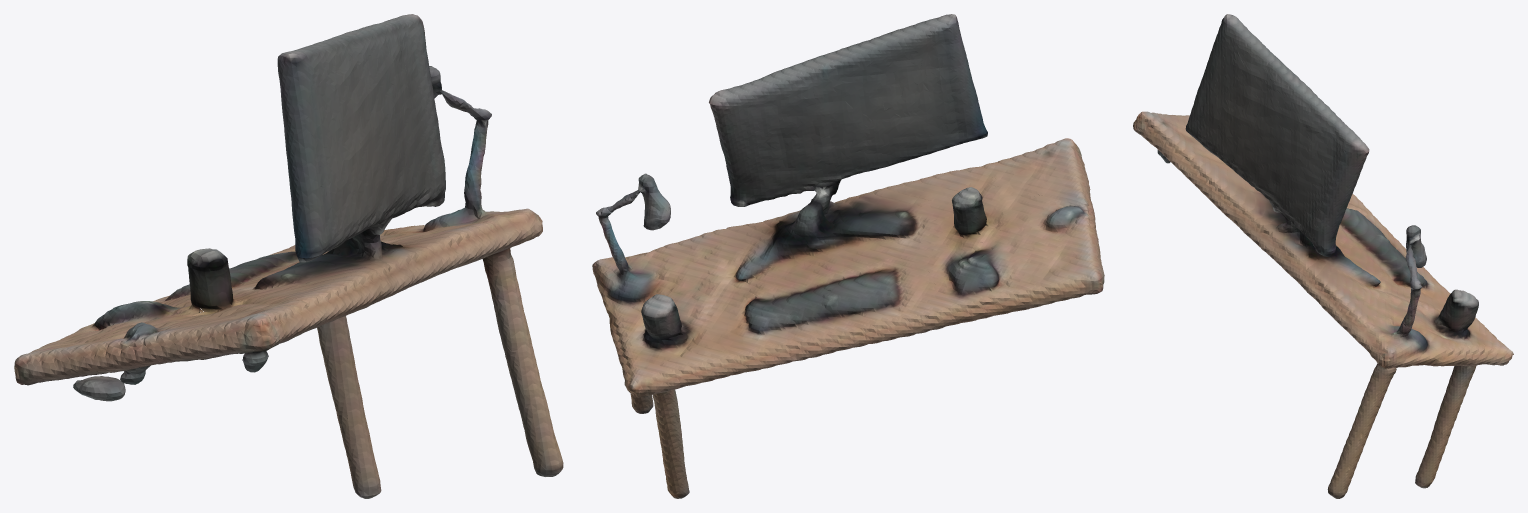
File: desk.glb
3 renders of one model, left to right at view 1: azimuth 30°, elevation 25°; view 2: azimuth 150°, elevation 25°; view 3: azimuth 270°, elevation 25°, orthographic. The views are drawn at different scales.
Visible parts, largest first — view 1: geometry_0; view 2: geometry_0; view 3: geometry_0.
Boxes of the visible parts, x1,y1,x2,y2 form: geometry_0: [14, 14, 563, 498]; geometry_0: [592, 14, 1104, 498]; geometry_0: [1133, 14, 1513, 498].
Size of the model in its own units: 1.04 by 0.9923 by 0.8562.
